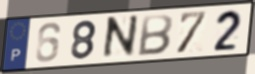2: (211, 7, 244, 55)
6: (34, 21, 62, 64)
7: (177, 10, 208, 55)
8: (70, 19, 98, 61)
B: (135, 13, 175, 57)
N: (100, 13, 141, 63)
